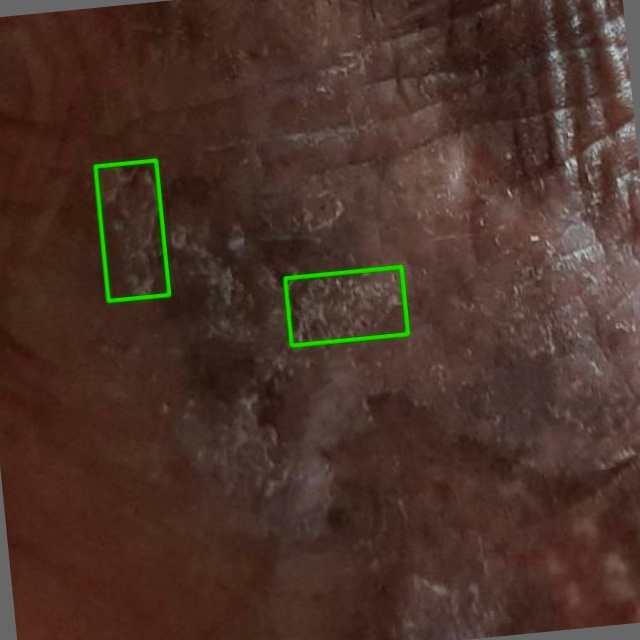Eczema: (95, 160, 169, 300), (285, 266, 408, 345)
